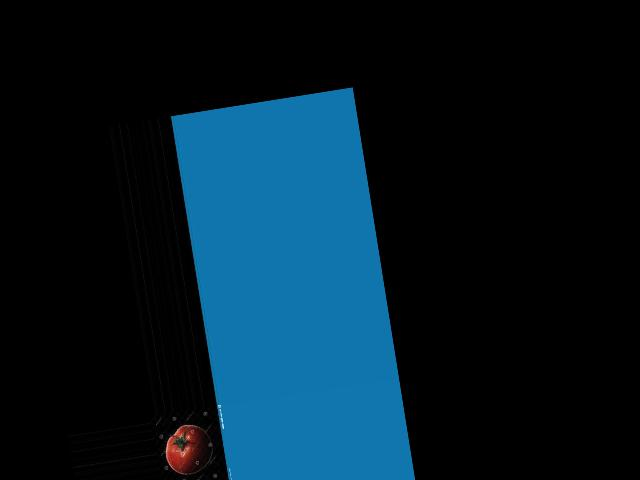tomato: (162, 421, 216, 478)
